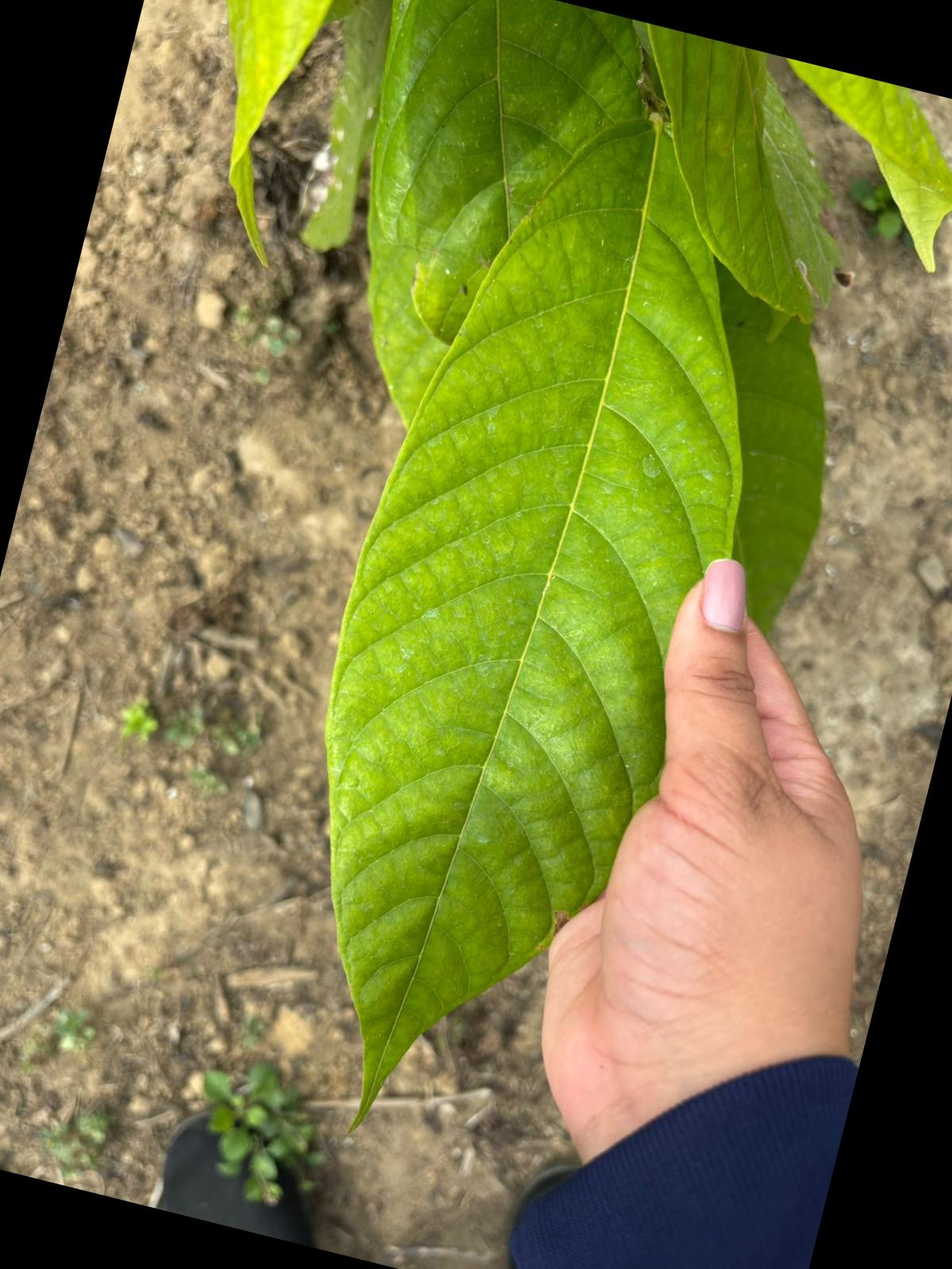Nitrogeno: (326, 116, 742, 1117)
